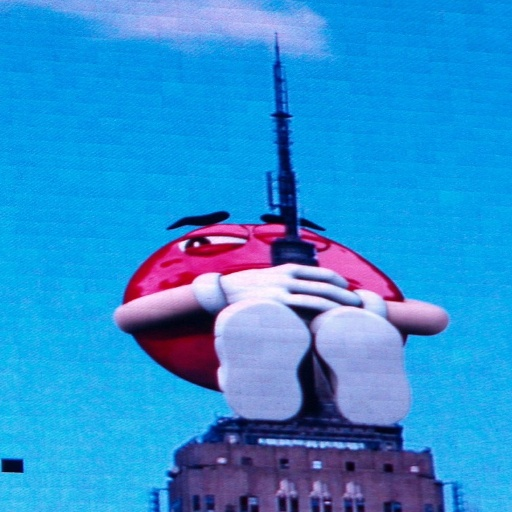hand: (214, 249, 356, 331)
